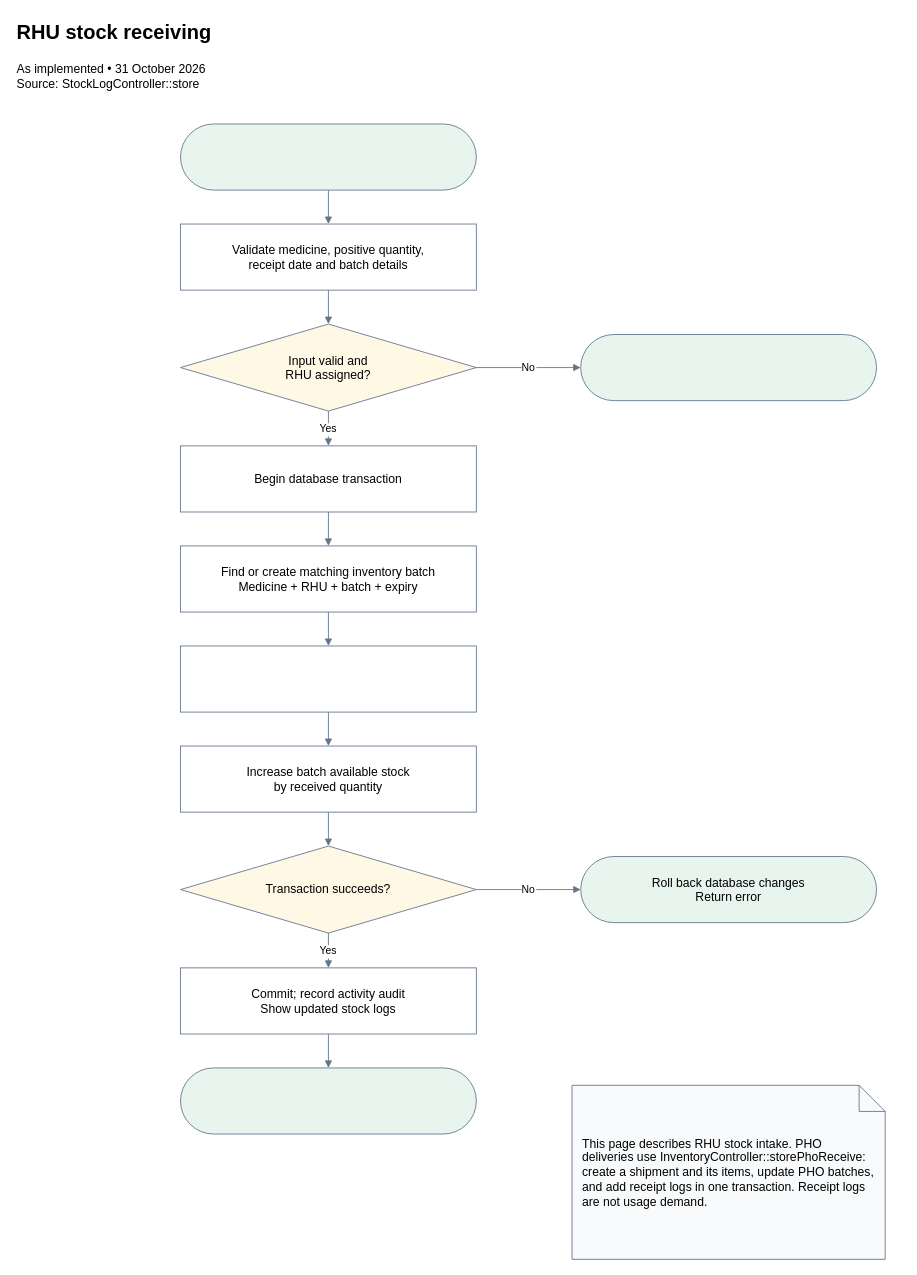
Some shapes in this 917 by 1275 pixel diagram are drawn without their labels. The shapes that lost their labels are listed below. From the top down, each one's box as (x1, y1, x2, y2) in pixels, then its label:
(180, 123, 476, 190): Start: RHU admin or staff records received stock
(580, 334, 877, 401): Show validation / access error Correct input before resubmitting
(180, 645, 476, 712): Create stock intake log Quantity, date, user and receipt details
(180, 1067, 476, 1134): End
